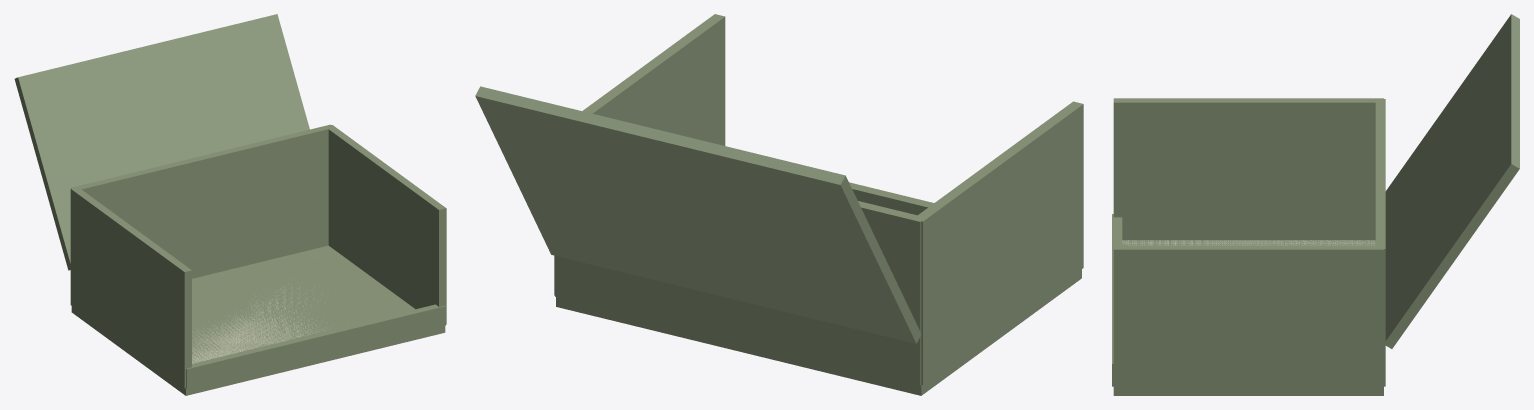
The model's file is open-weekend-bag.gltf.
The picture shows the model from 3 angles, left to right: view 1: azimuth 30°, elevation 25°; view 2: azimuth 150°, elevation 25°; view 3: azimuth 270°, elevation 25°; orthographic projection. The views are drawn at different scales.
Parts seen in each view (by area): view 1: Bag shell (×6), Bag lining; view 2: Bag shell (×6); view 3: Bag shell (×6), Bag lining.
Boxes of the visible parts, x1,y1,x2,y2 form: Bag shell (×6): (14, 14, 446, 395); Bag lining: (192, 255, 338, 363); Bag shell (×6): (475, 14, 1083, 395); Bag shell (×6): (1112, 14, 1519, 395); Bag lining: (1122, 240, 1375, 245).
Size of the model in its own units: 4.24 by 3.03 by 4.83.
